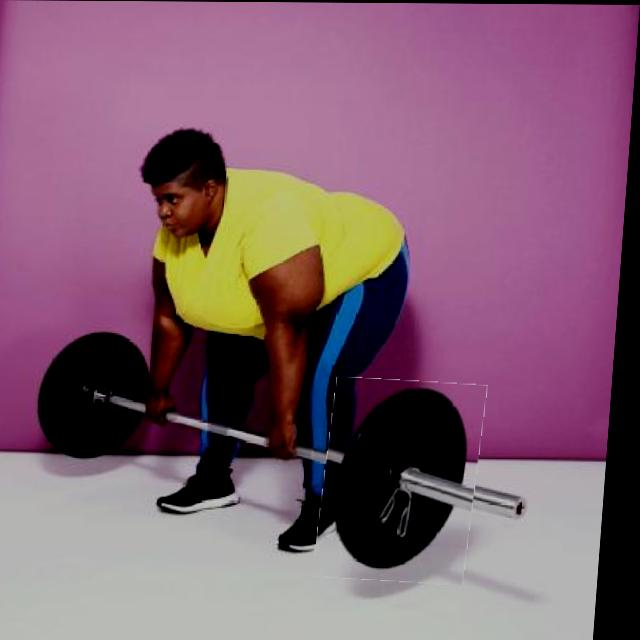barbell: (325, 379, 493, 583)
